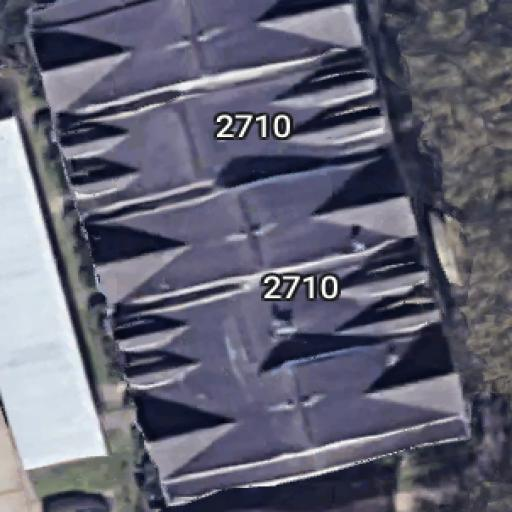Slope-Roof: (26, 0, 474, 505)
